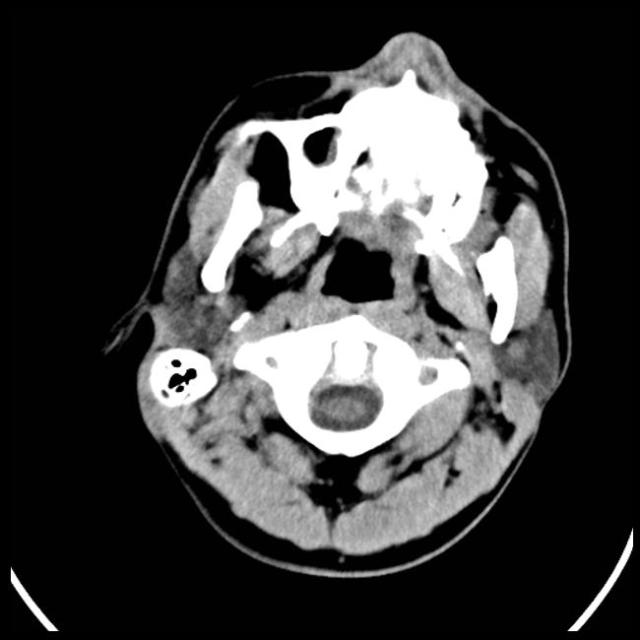lesion: (105, 33, 575, 575)
